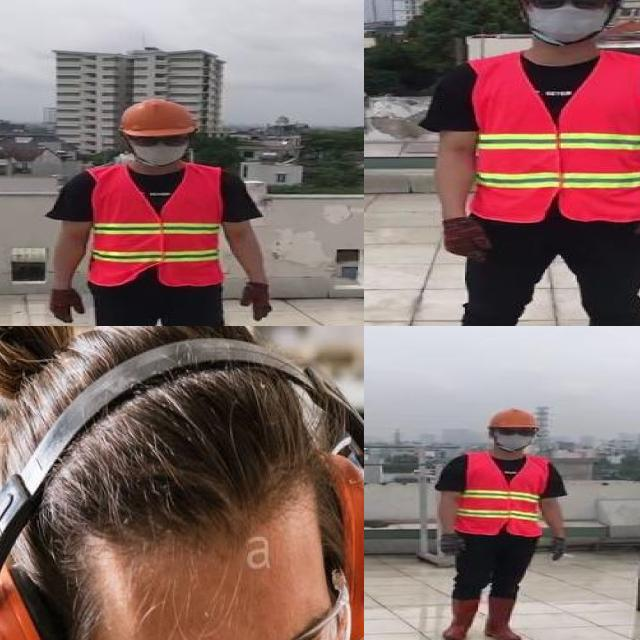Ear-protection: (0, 326, 364, 640)
boots: (483, 595, 525, 640), (446, 596, 478, 640)
face_mask: (513, 0, 619, 45), (126, 131, 190, 166), (490, 426, 538, 451)
glasses: (60, 572, 353, 640), (521, 0, 620, 16), (126, 132, 188, 149), (494, 426, 537, 438)
hand_glove: (435, 217, 493, 262), (49, 288, 86, 325), (240, 282, 272, 319), (439, 534, 465, 557), (548, 538, 570, 562)
head_helmet: (116, 96, 196, 136), (487, 406, 540, 431)
person: (403, 0, 640, 326), (45, 97, 276, 326), (426, 403, 573, 640)
vest: (466, 49, 640, 222), (82, 165, 223, 288), (460, 452, 546, 539)
